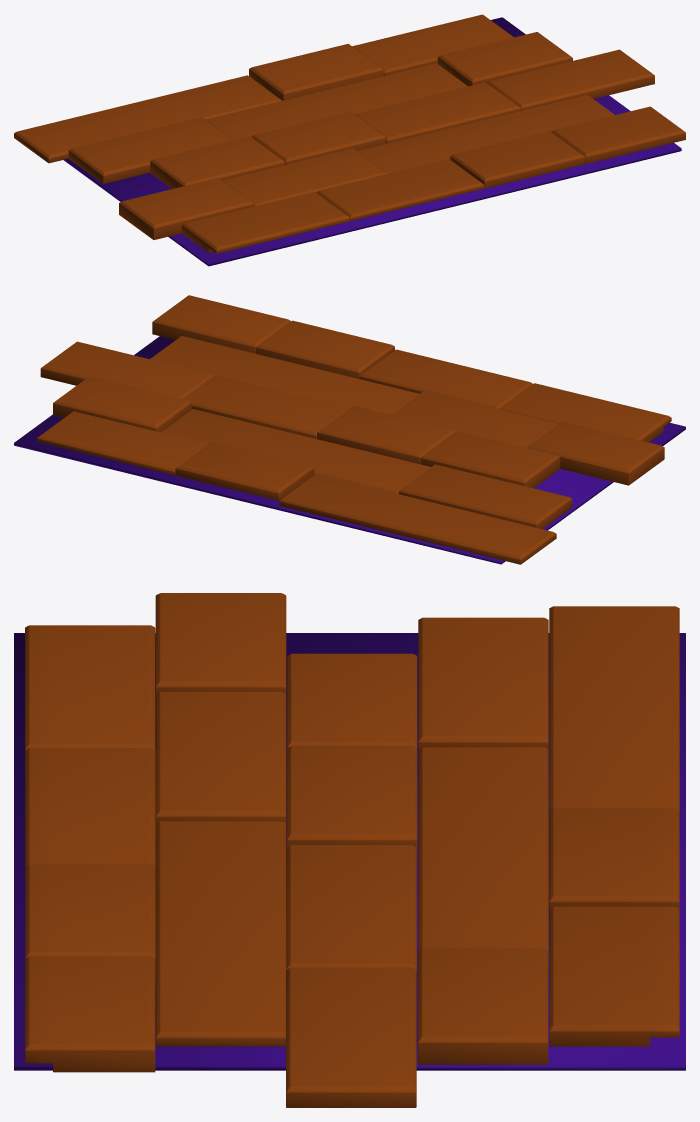
The model's file is BentWood Planks.obj.
3 renders of one model, top to bottom at view 1: azimuth 30°, elevation 25°; view 2: azimuth 150°, elevation 25°; view 3: azimuth 270°, elevation 25°, orthographic. The views are drawn at different scales.
Parts seen in each view (by area): view 1: Box072, Box085, Box086, Box081, Box076, Box071, Box080, Box077, Box079, Box075, Box083, Box074 (+6 smaller); view 2: Box072, Box086, Box081, Box085, Box077, Box074, Box079, Box080, Box083, Box071, Box076, Box088 (+6 smaller); view 3: Box081, Box086, Box072, Box085, Box071, Box074, Box075, Box077, Box079, Box076, Box078, Box080 (+6 smaller).
Boxes of the visible parts, x1,y1,x2,y2 form: Box072: (14,75,281,163); Box085: (63,17,681,266); Box086: (206,63,467,139); Box081: (357,95,614,173); Box076: (182,192,350,253); Box071: (487,49,654,110); Box080: (316,159,484,221); Box077: (68,117,232,183); Box079: (355,82,520,143); Box075: (222,148,386,206); Box083: (119,178,253,239); Box074: (352,14,513,75); Box072: (279,474,556,564); Box086: (161,409,430,493); Box081: (150,336,419,414); Box085: (14,336,685,564); Box077: (398,464,572,528); Box074: (37,411,207,475); Box079: (183,375,349,438); Box080: (359,349,532,409); Box083: (526,421,664,485); Box071: (40,341,213,398); Box076: (499,383,671,442); Box088: (175,441,314,500); Box081: (155,821,286,1046); Box086: (418,747,548,972); Box072: (549,606,679,809); Box085: (14,633,685,1070); Box071: (286,967,416,1107); Box074: (549,906,679,1046); Box075: (155,692,286,823); Box077: (418,617,548,748); Box079: (286,845,416,984); Box076: (25,625,155,750); Box078: (417,948,548,1064); Box080: (25,748,155,878).
Bounding box in the file's own units: 801 × 23.71 × 463.
